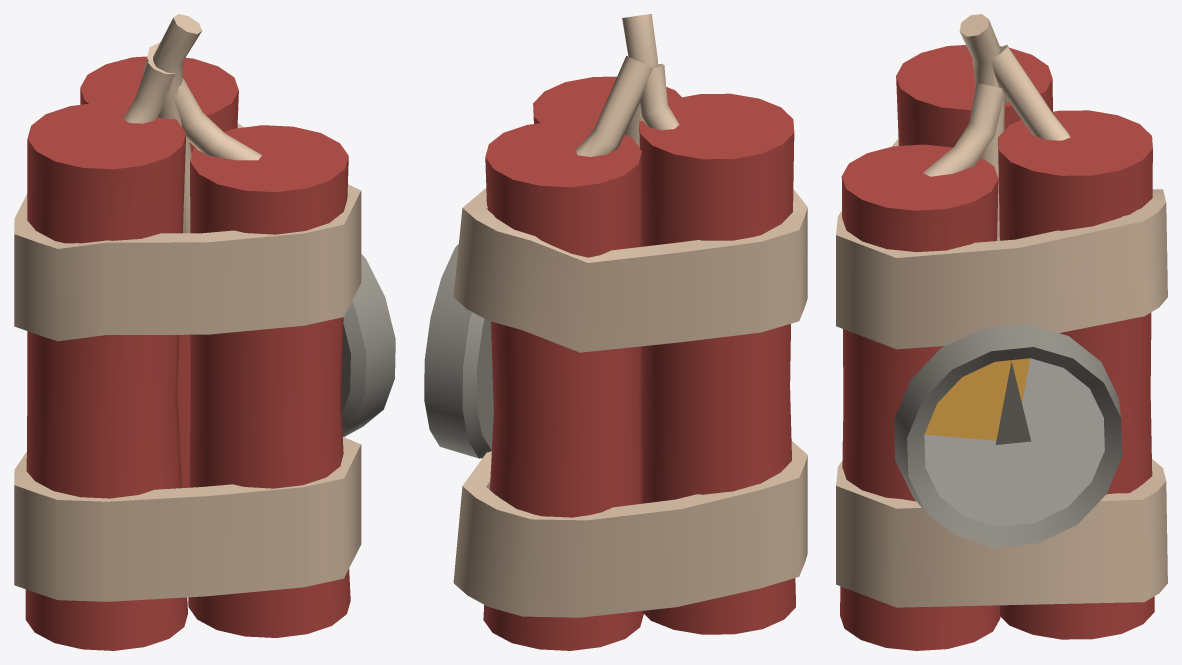
File: Grenade.FBX
The picture shows the model from 3 angles, left to right: view 1: azimuth 30°, elevation 25°; view 2: azimuth 150°, elevation 25°; view 3: azimuth 270°, elevation 25°; orthographic projection.
Parts seen in each view (by area): view 1: Cylinder002; view 2: Cylinder002; view 3: Cylinder002.
Boxes of the visible parts, x1,y1,x2,y2 form: Cylinder002: [14, 14, 395, 650]; Cylinder002: [424, 14, 807, 650]; Cylinder002: [836, 14, 1167, 650].
Size of the model in its own units: 58.37 by 94.86 by 49.56.
